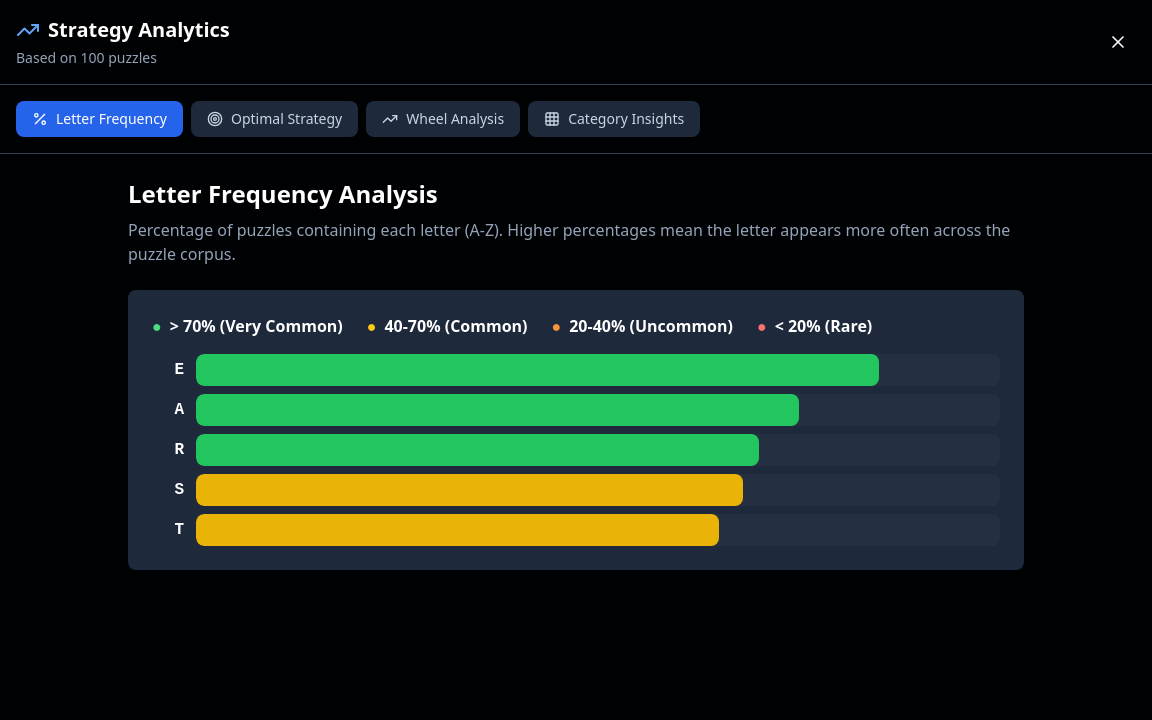
Test case: StrategyDashboard › should display optimal strategy recommendations
Click the button "Optimal Strategy" at (275, 119), box [191,101,358,137]
(page scrolled)
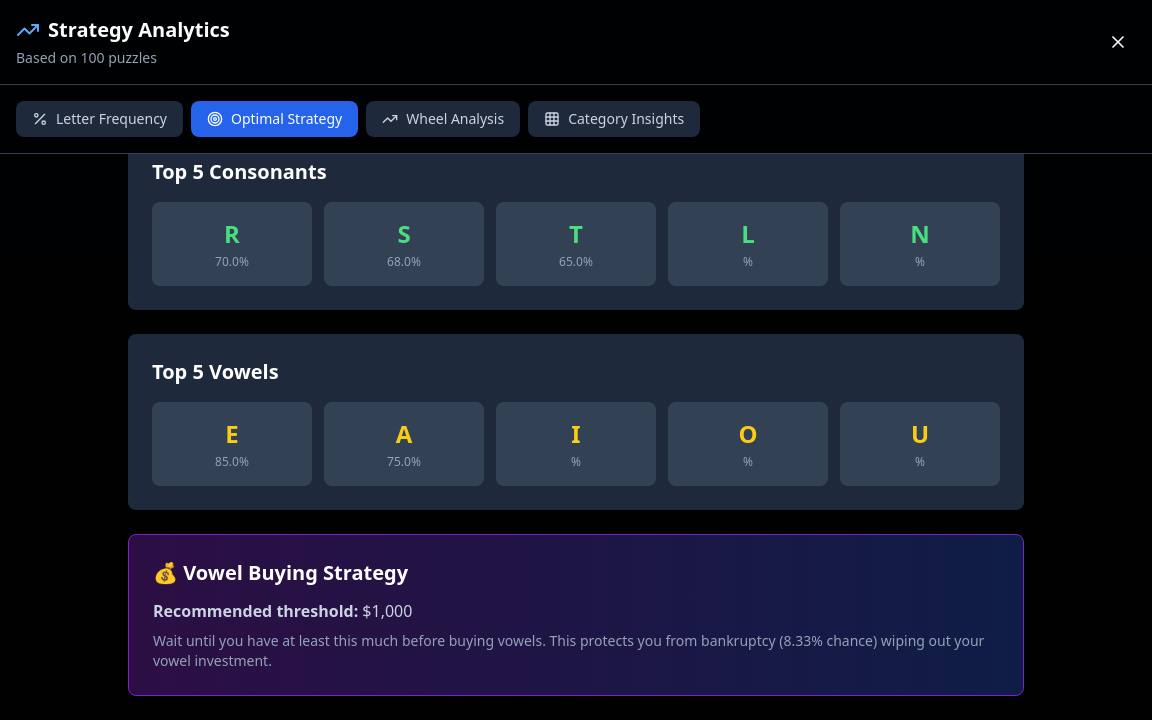
Expected: the heading "Top 5 Consonants" is shown, [152,158,327,185]
Expected: the heading "Top 5 Vowels" is shown, [152,358,279,385]
Expected: the heading "💰 Vowel Buying Strategy" is shown, [153,559,408,586]
